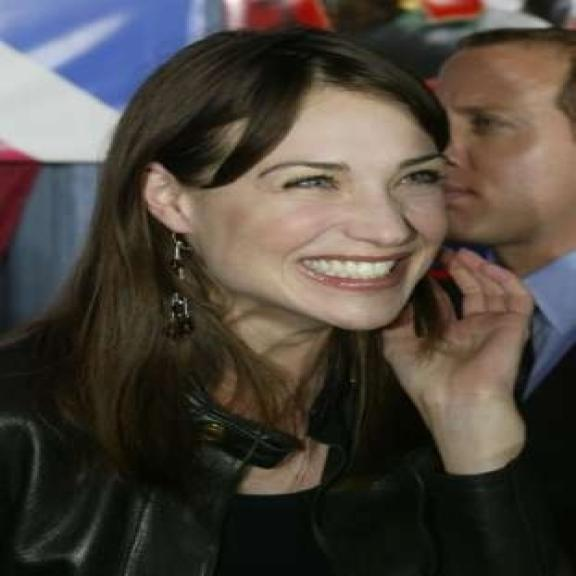face: (114, 71, 452, 337)
